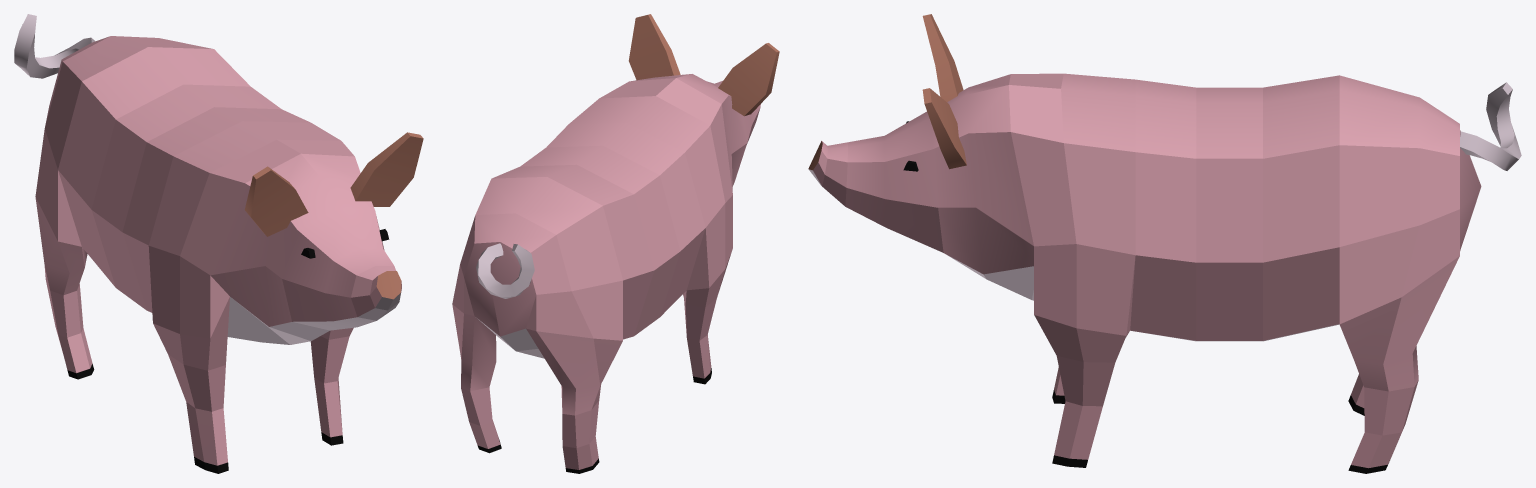
Rendered from b8cef0ea-b6ce-41f4-b5a6-4a9c9c9d5903.glb.
The picture shows the model from 3 angles, left to right: view 1: azimuth 30°, elevation 25°; view 2: azimuth 150°, elevation 25°; view 3: azimuth 270°, elevation 25°; orthographic projection. The views are drawn at different scales.
Parts seen in each view (by area): view 1: Geo_Pig; view 2: Geo_Pig; view 3: Geo_Pig.
Part boxes in pixels (x1,y1,x2,y2): Geo_Pig: [14, 14, 423, 473]; Geo_Pig: [452, 14, 779, 473]; Geo_Pig: [808, 14, 1521, 473].
Size of the model in its own units: 53.81 by 98.57 by 164.
1 material, 1 textured.
